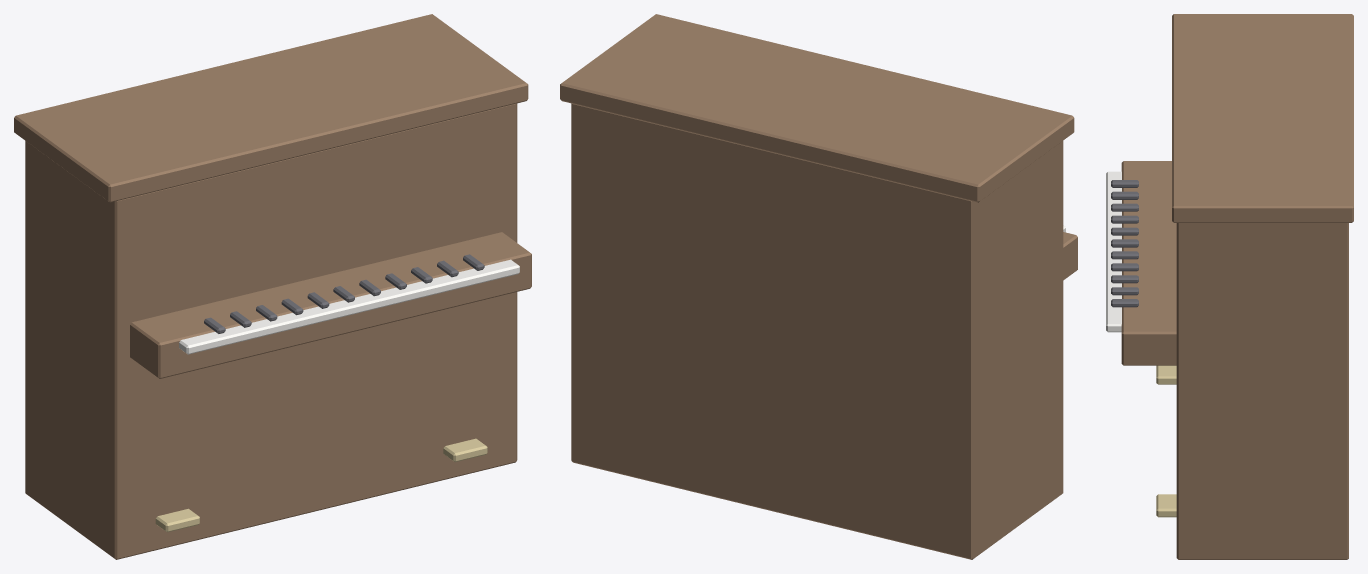
File: SM_Piano.fbx
The picture shows the model from 3 angles, left to right: view 1: azimuth 30°, elevation 25°; view 2: azimuth 150°, elevation 25°; view 3: azimuth 270°, elevation 25°; orthographic projection. The views are drawn at different scales.
Parts seen in each view (by area): view 1: Piano; view 2: Piano; view 3: Piano.
Part boxes in pixels (x1,y1,x2,y2): Piano: (14, 14, 531, 559); Piano: (560, 14, 1077, 559); Piano: (1106, 14, 1353, 559).
Size of the model in its own units: 146 by 126 by 79.
